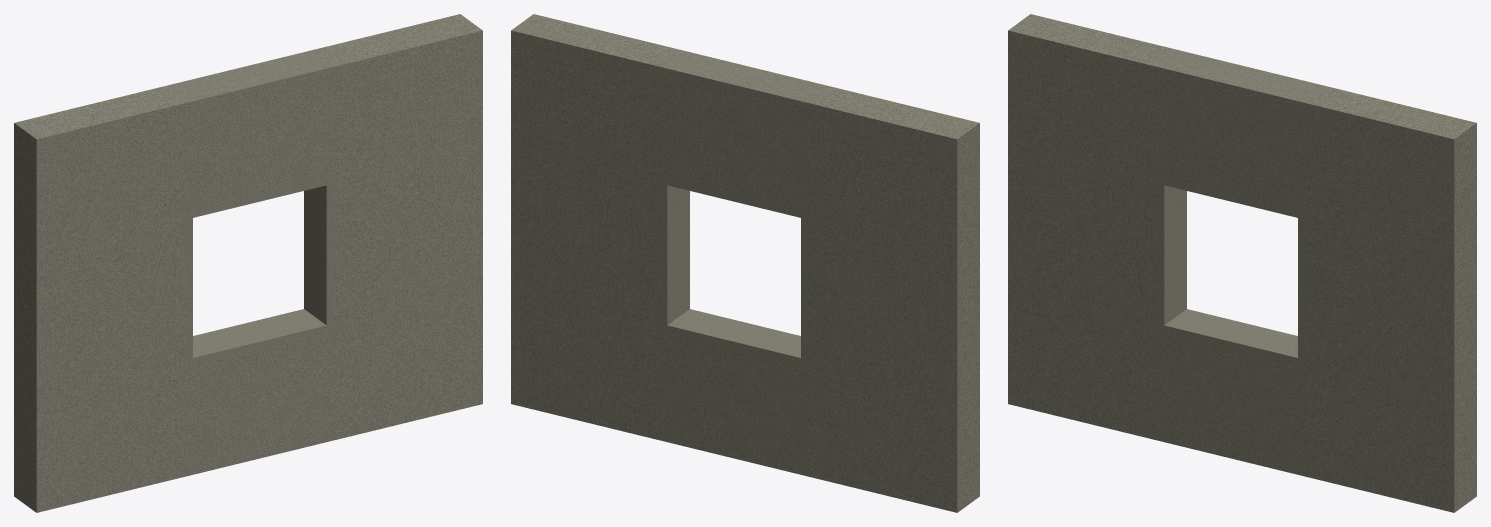
The picture shows the model from 3 angles, left to right: view 1: azimuth 30°, elevation 25°; view 2: azimuth 150°, elevation 25°; view 3: azimuth 330°, elevation 25°; orthographic projection.
Visible parts, largest first — view 1: COL_wall_segment, COL_wall_segment.001, COL_wall_segment.003, COL_wall_segment.002, COL_window_reveal.001, COL_window_reveal.002, COL_window_reveal, COL_window_reveal.003; view 2: COL_wall_segment, COL_wall_segment.001, COL_wall_segment.003, COL_wall_segment.002, COL_window_reveal.001, COL_window_reveal.002, COL_window_reveal, COL_window_reveal.003; view 3: COL_wall_segment.001, COL_wall_segment, COL_wall_segment.003, COL_wall_segment.002, COL_window_reveal, COL_window_reveal.002, COL_window_reveal.001, COL_window_reveal.003.
Part boxes in pixels (bbox=[...]): COL_wall_segment: bbox=[14, 86, 185, 512]; COL_wall_segment.001: bbox=[311, 14, 482, 440]; COL_wall_segment.003: bbox=[164, 50, 333, 212]; COL_wall_segment.002: bbox=[186, 331, 333, 476]; COL_window_reveal.001: bbox=[304, 177, 333, 332]; COL_window_reveal.002: bbox=[193, 309, 326, 364]; COL_window_reveal: bbox=[186, 211, 192, 366]; COL_window_reveal.003: bbox=[193, 178, 326, 217]; COL_wall_segment: bbox=[808, 86, 979, 512]; COL_wall_segment.001: bbox=[511, 14, 682, 440]; COL_wall_segment.003: bbox=[660, 50, 829, 212]; COL_wall_segment.002: bbox=[660, 331, 807, 476]; COL_window_reveal.001: bbox=[660, 177, 689, 332]; COL_window_reveal.002: bbox=[667, 309, 800, 364]; COL_window_reveal: bbox=[801, 211, 807, 366]; COL_window_reveal.003: bbox=[667, 178, 800, 217]; COL_wall_segment.001: bbox=[1305, 86, 1476, 512]; COL_wall_segment: bbox=[1008, 14, 1179, 440]; COL_wall_segment.003: bbox=[1157, 50, 1326, 212]; COL_wall_segment.002: bbox=[1157, 331, 1304, 476]; COL_window_reveal: bbox=[1157, 177, 1186, 332]; COL_window_reveal.002: bbox=[1164, 309, 1297, 364]; COL_window_reveal.001: bbox=[1298, 211, 1304, 366]; COL_window_reveal.003: bbox=[1164, 178, 1297, 217].
Size of the model in its own units: 4 by 3.2 by 0.35.
Materials: 1 (1 with a texture image).
